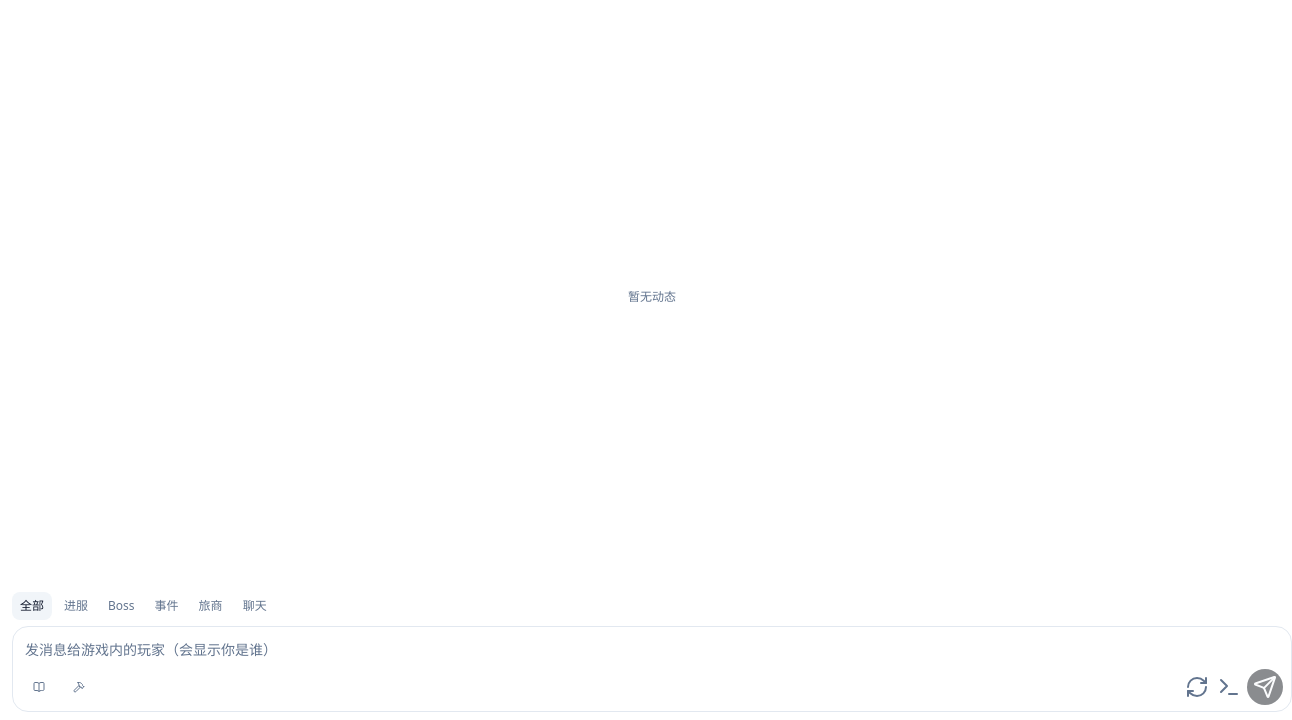
Test: ChatPage › 贴底输入框可发言，成功后提示已发送
Expected: the icon with class "lucide-send" is shown, top-left (1253, 675), bottom-right (1277, 699)
Step 1. Type "大家好啊" into the field with placeholder "发消息给游戏内的玩家（会显示你是谁）" → x=652, y=649, box top-left (21, 633), bottom-right (1283, 665)
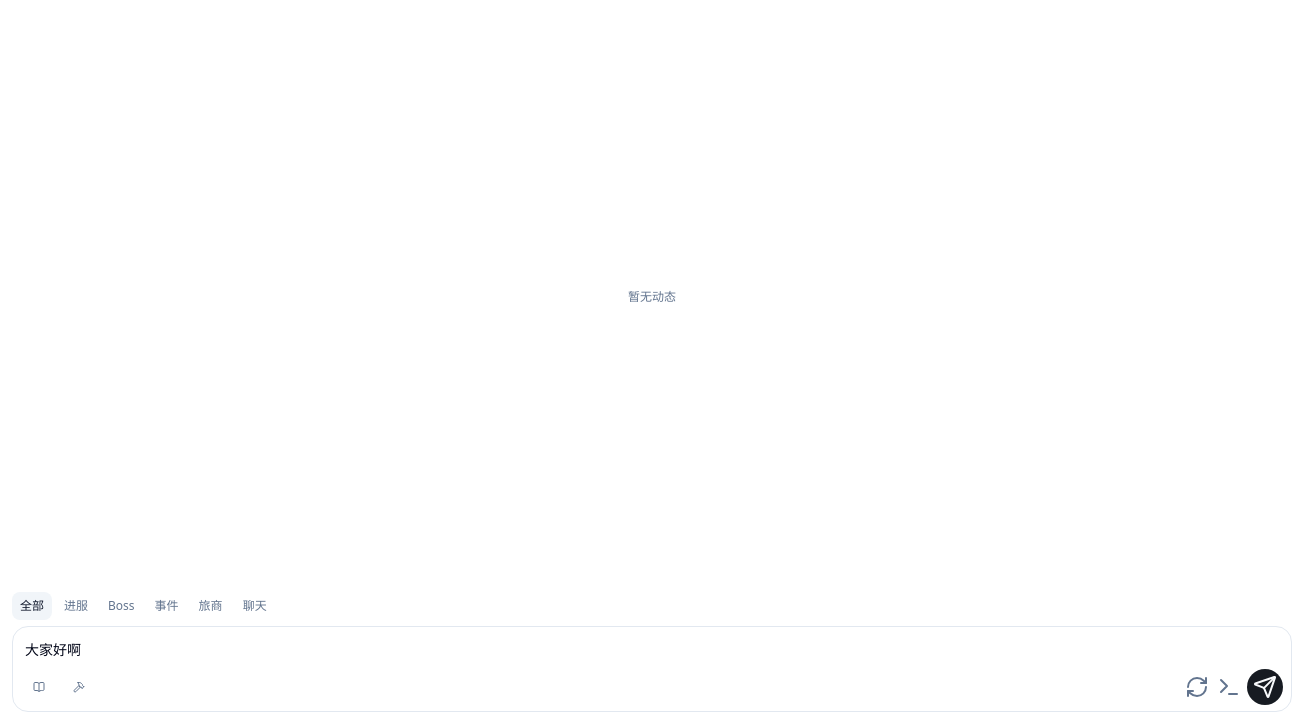
Step 2. Click the button named "发送发言" → x=1265, y=687, box top-left (1247, 669), bottom-right (1283, 705)
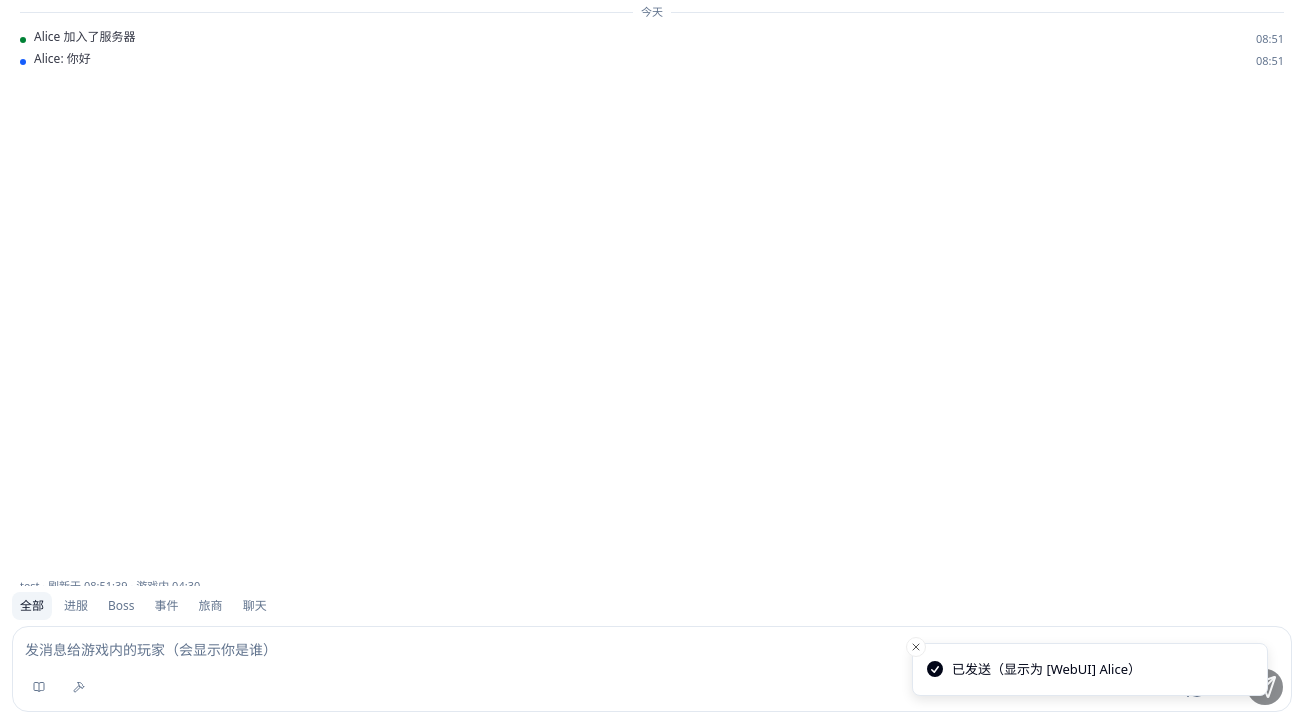
Now the text "已发送（显示为 [WebUI] Alice）" is shown, box top-left (952, 660), bottom-right (1141, 679)
